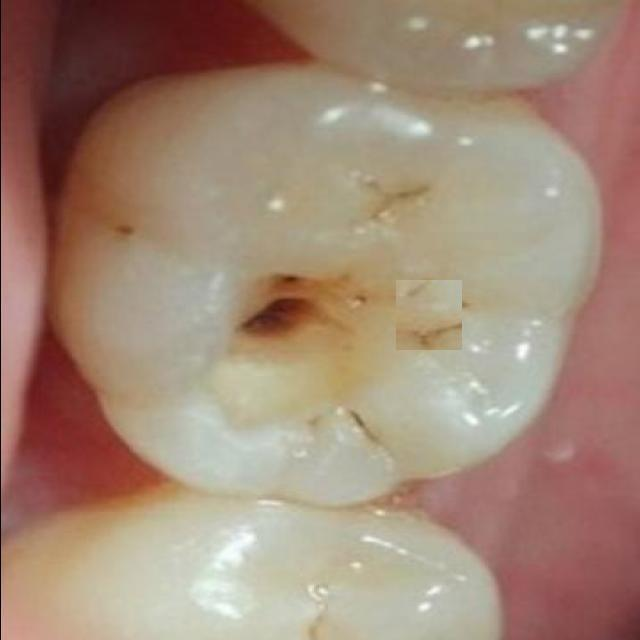caries: (236, 281, 338, 351), (395, 280, 461, 350), (306, 398, 396, 448), (353, 179, 427, 227), (117, 219, 137, 239)
